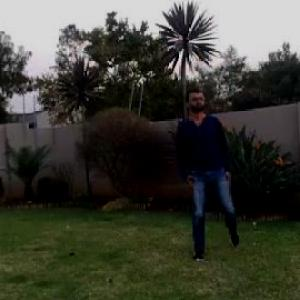follow: (176, 77, 238, 266)
